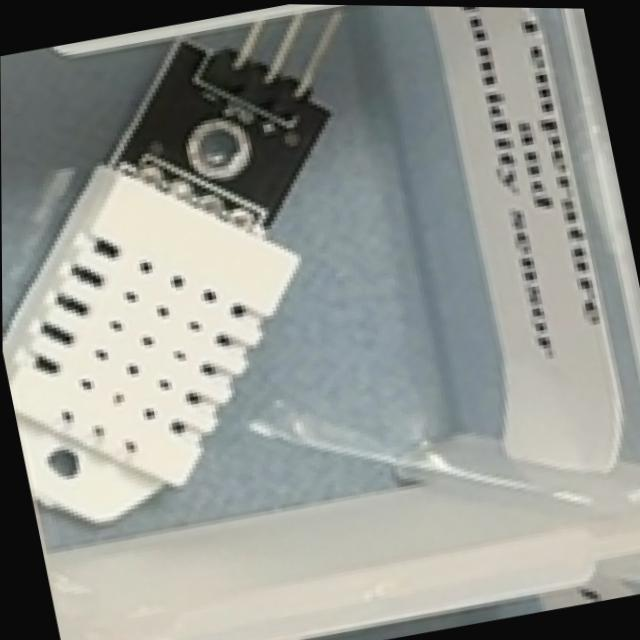Temperature And Humidity Sensor: (0, 0, 434, 527)
